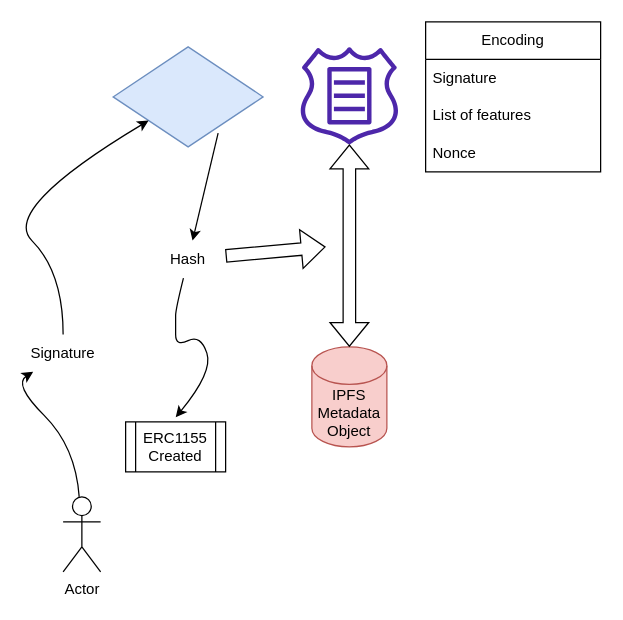
The diagram is 623 pixels wide and 620 high, and some of its shapes have lost their labels. The shapes that lost their labels are listed below. From the top down, each one's centre as x and y in pixels, then its label:
At pixel 187 96: "Marketplace".
At pixel 349 95: "QR".
